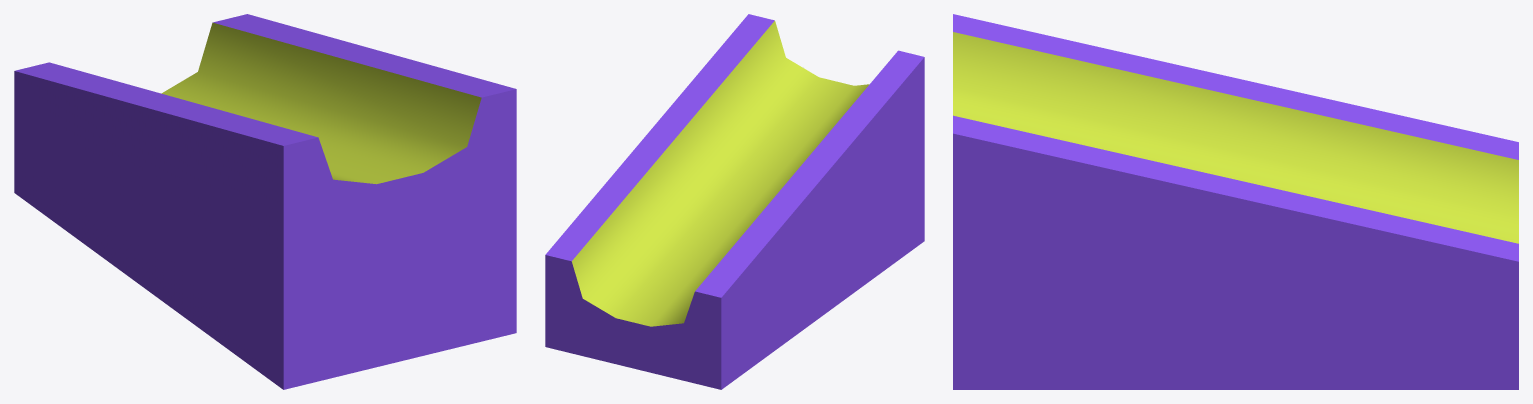
File: slant_solid_long_B.fbx
The picture shows the model from 3 angles, left to right: view 1: azimuth 30°, elevation 25°; view 2: azimuth 150°, elevation 25°; view 3: azimuth 270°, elevation 25°; orthographic projection. The views are drawn at different scales.
Visible parts, largest first — view 1: slant_solid_long_B; view 2: slant_solid_long_B; view 3: slant_solid_long_B.
Boxes of the visible parts, box(x1,y1,x2,y2) form: slant_solid_long_B: box(14, 14, 516, 389); slant_solid_long_B: box(545, 14, 924, 389); slant_solid_long_B: box(953, 14, 1518, 389).
Bounding box in the file's own units: 10 × 10 × 20.
